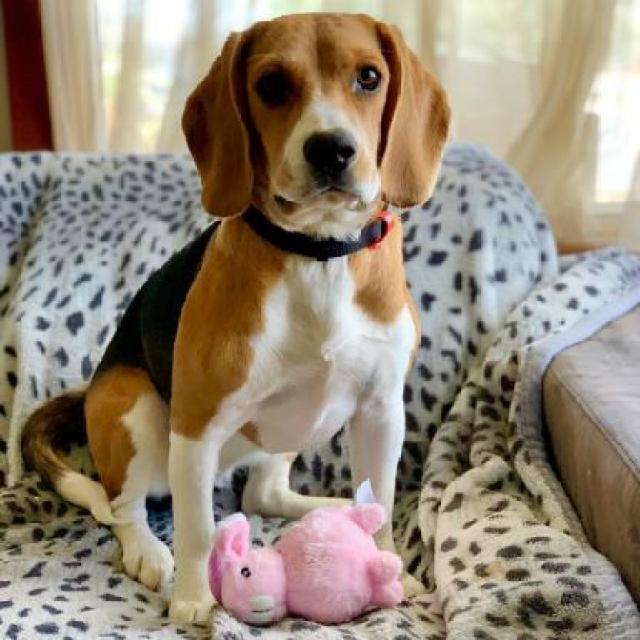Dog: (20, 6, 452, 628)
